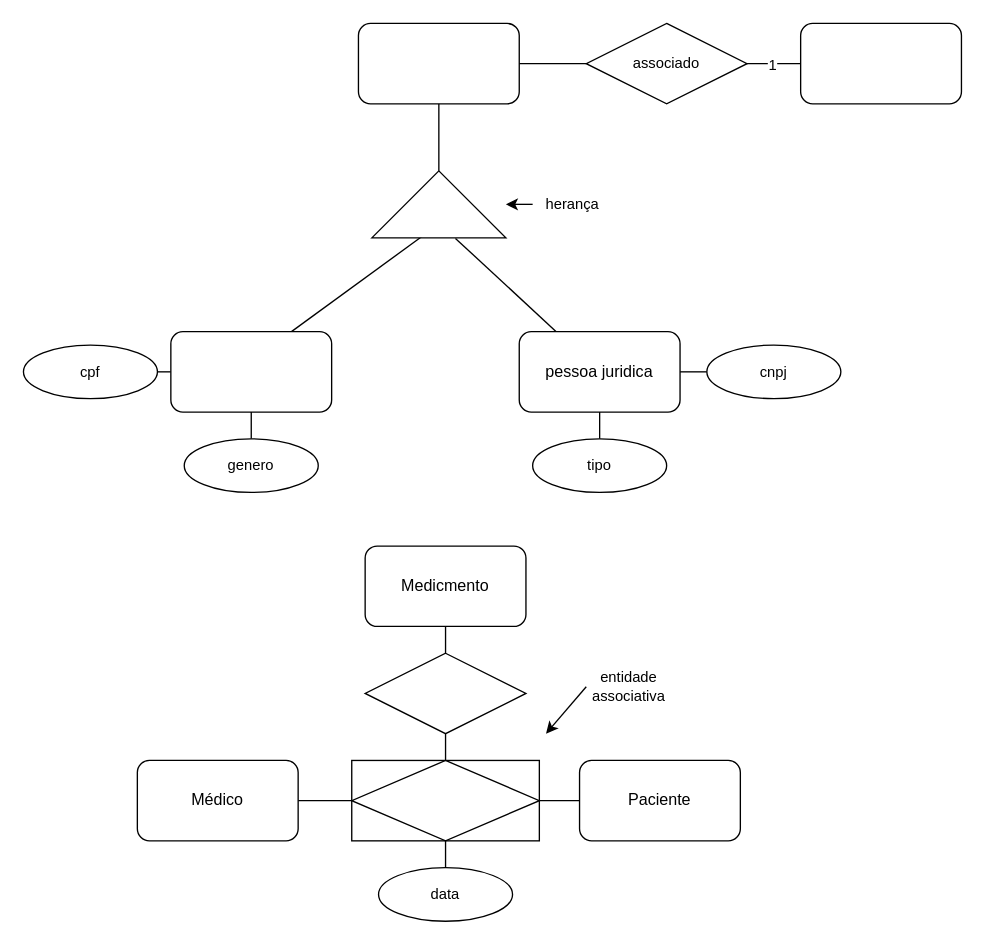
Some shapes in this 985 by 945 pixel diagram are drawn without their labels. Here are the shapes that lost their labels. From the top down, the box of each, then its label:
(357, 22, 519, 104): cliente
(799, 22, 961, 104): Filial
(170, 330, 332, 412): pessoa física
(364, 652, 526, 734): prescrição
(350, 759, 539, 841): Consulta
